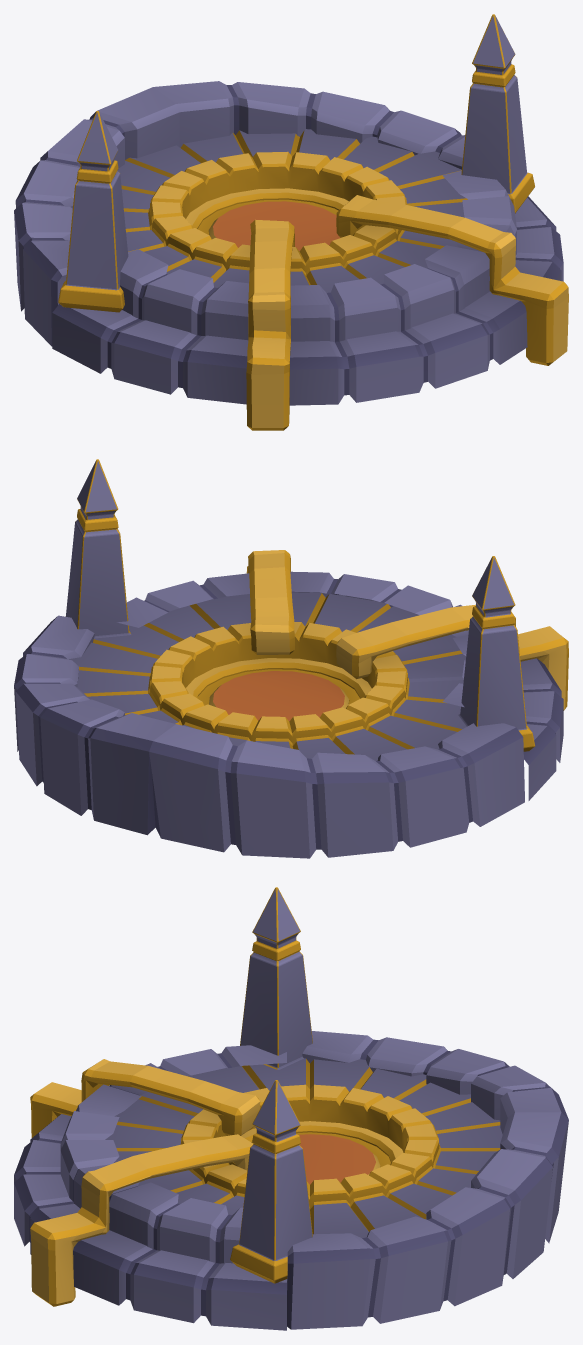
The model's file is shrine_base.glb.
The picture shows the model from 3 angles, top to bottom: view 1: azimuth 30°, elevation 25°; view 2: azimuth 150°, elevation 25°; view 3: azimuth 270°, elevation 25°; orthographic projection.
Visible parts, largest first — view 1: /tmp/shrine_final; view 2: /tmp/shrine_final; view 3: /tmp/shrine_final.
Boxes of the visible parts, box(x1,y1,x2,y2) form: /tmp/shrine_final: box(14, 14, 568, 430); /tmp/shrine_final: box(14, 459, 568, 858); /tmp/shrine_final: box(14, 887, 568, 1330).
Bounding box in the file's own units: 1.01 × 0.5019 × 1.02.
